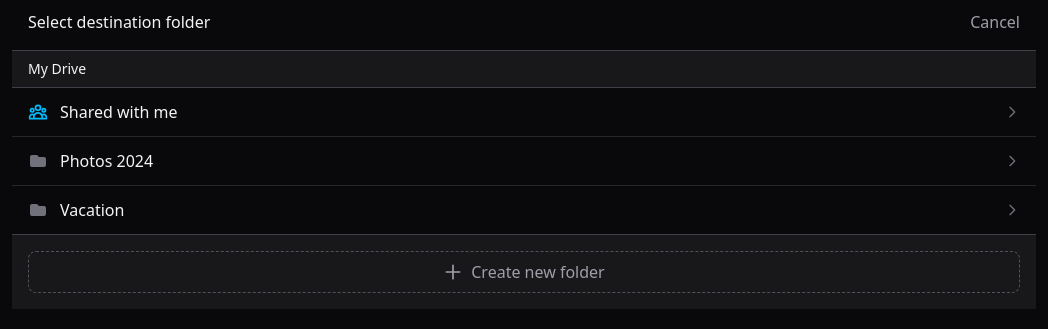
it: DestinationFolderPicker › shows select button for current folder
The width and height of the screenshot is (1048, 329).
Expected: the text "Photos 2024" is shown, x1=60 y1=150 x2=153 y2=172
Click the button "Photos 2024": (107, 161) x1=12 y1=137 x2=1036 y2=186
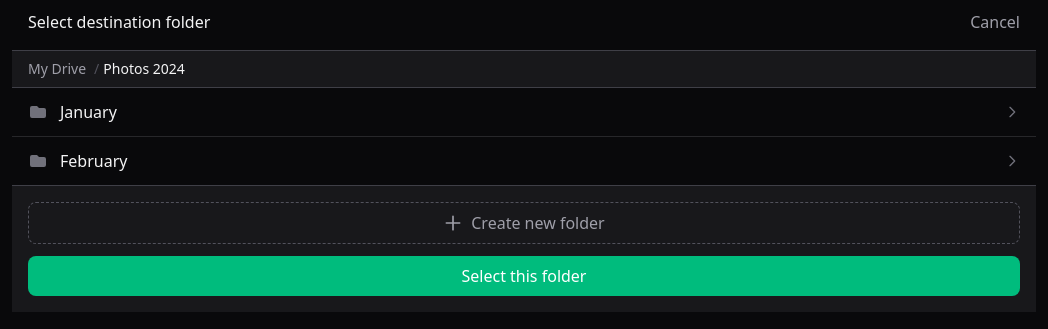
Result: the text "January" is shown at x1=60 y1=101 x2=117 y2=123
Result: the button "Select this folder" is shown at x1=28 y1=256 x2=1020 y2=296
